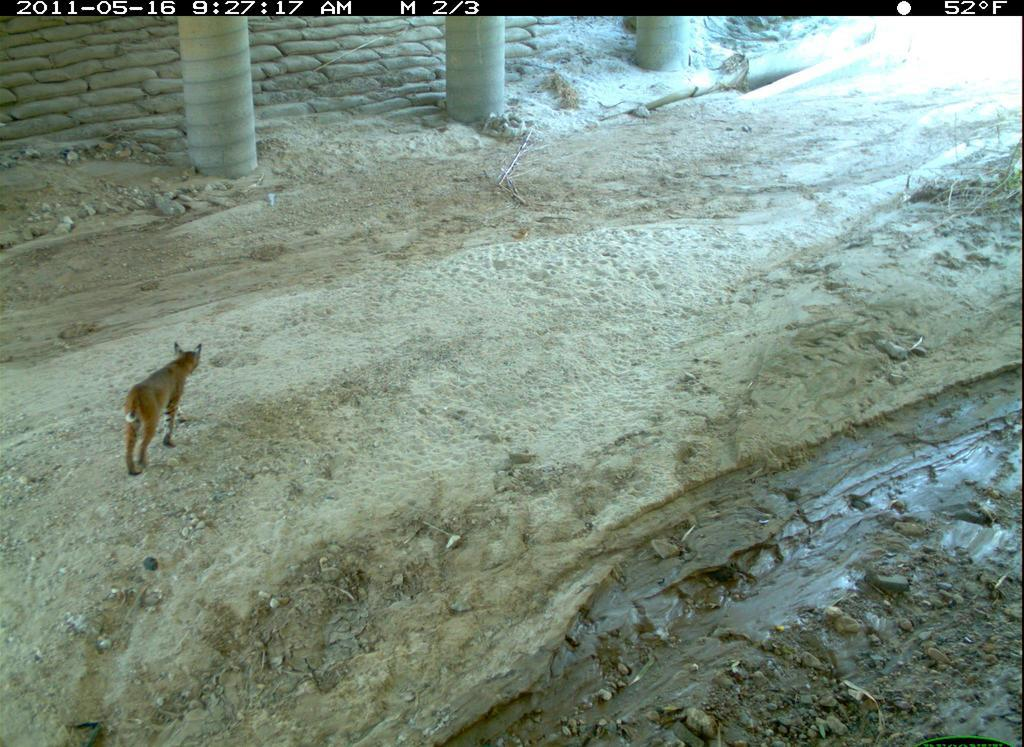bobcat: (120, 341, 207, 484)
